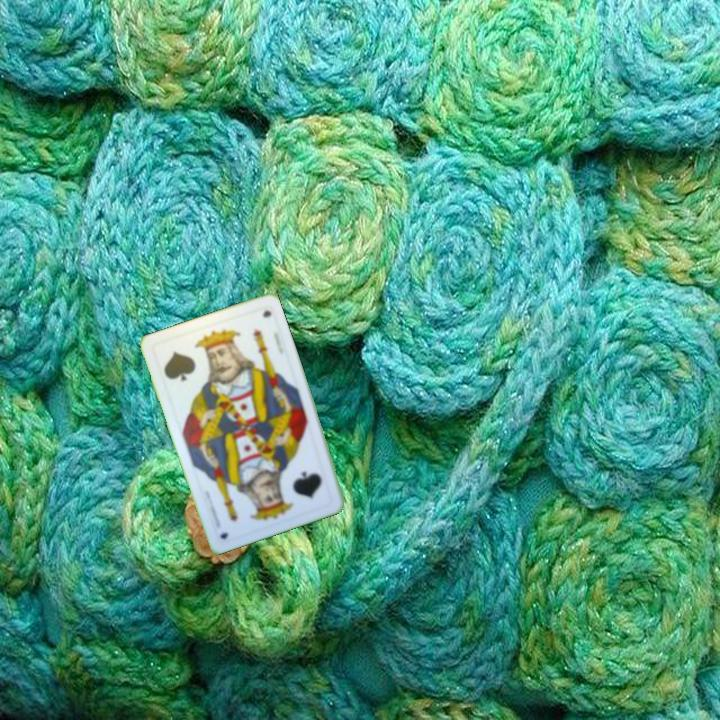s_k.png: (257, 448, 338, 523), (149, 323, 230, 398)
